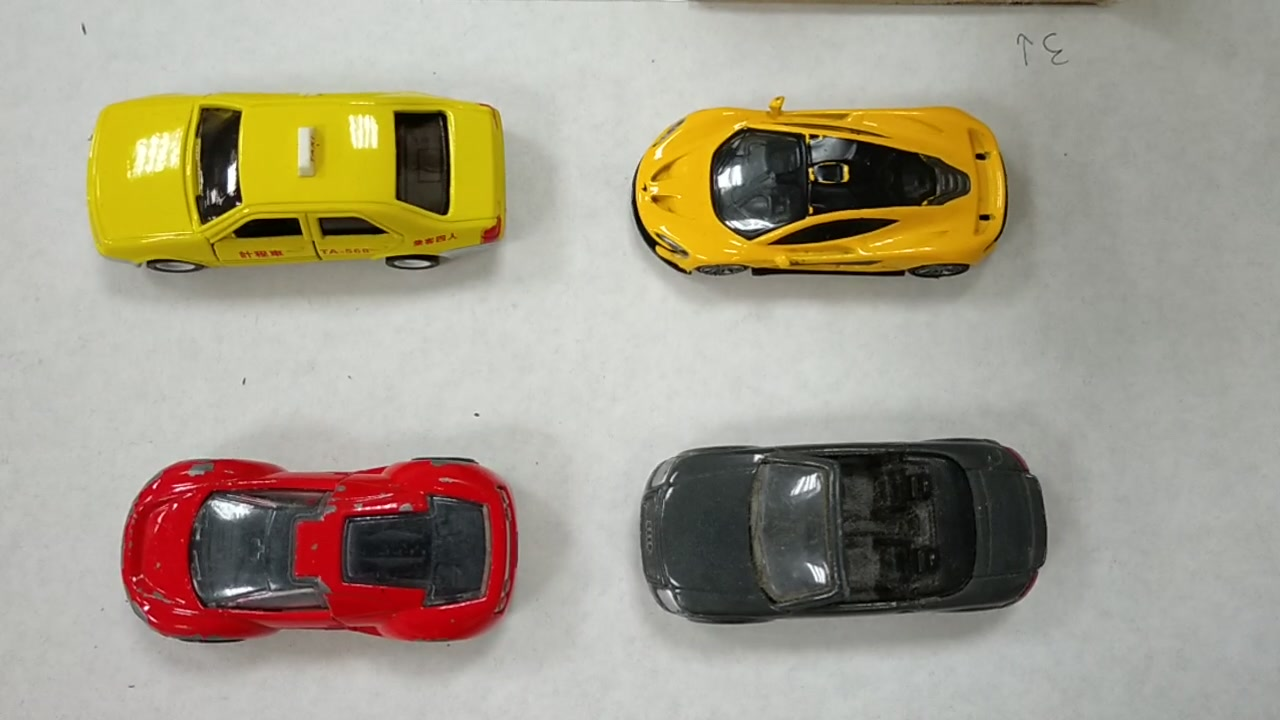car: (77, 96, 510, 271), (114, 463, 521, 644), (637, 440, 1050, 616), (617, 107, 1010, 282)
